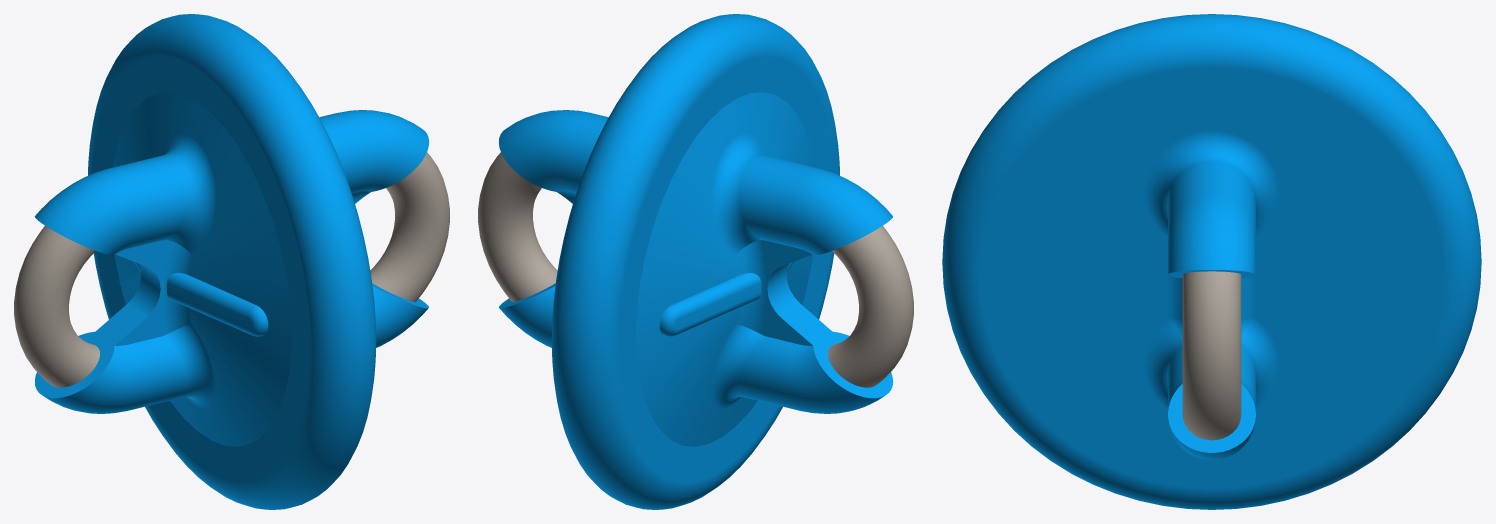
File: elo_corrente.glb
The picture shows the model from 3 angles, left to right: view 1: azimuth 30°, elevation 25°; view 2: azimuth 150°, elevation 25°; view 3: azimuth 270°, elevation 25°; orthographic projection. The views are drawn at different scales.
Visible parts, largest first — view 1: Peça, Peça 2; view 2: Peça, Peça 2; view 3: Peça, Peça 2.
Boxes of the visible parts, <box> form: Peça: <box>35,14,429,509</box>; Peça 2: <box>14,152,449,387</box>; Peça: <box>498,14,893,509</box>; Peça 2: <box>478,152,913,387</box>; Peça: <box>942,14,1481,509</box>; Peça 2: <box>1182,271,1241,440</box>.
Bounding box in the file's own units: 0.045 × 0.046 × 0.046.
